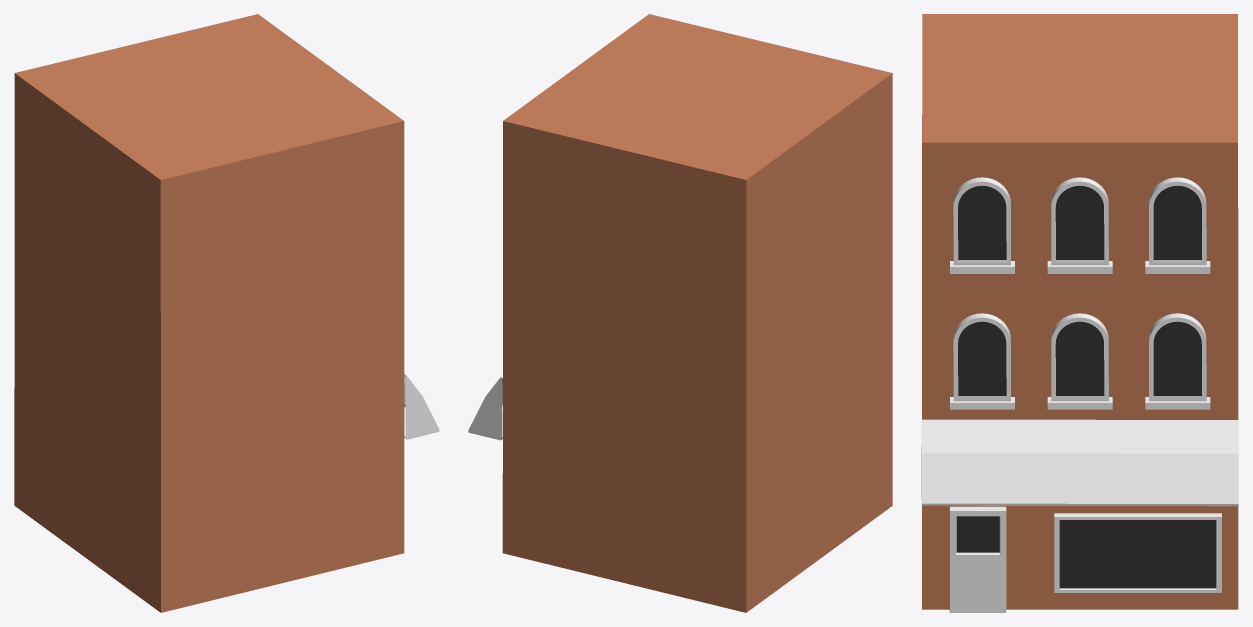
3 views of the same model, side by side, from view 1: azimuth 30°, elevation 25°; view 2: azimuth 150°, elevation 25°; view 3: azimuth 270°, elevation 25° (orthographic). The views are drawn at different scales.
Parts seen in each view (by area): view 1: BusinessBuildings.020; view 2: BusinessBuildings.020; view 3: BusinessBuildings.020.
Boxes of the visible parts, x1=… form: BusinessBuildings.020: x1=14, y1=14, x2=439, y2=612; BusinessBuildings.020: x1=468, y1=14, x2=892, y2=612; BusinessBuildings.020: x1=921, y1=14, x2=1238, y2=612.
Size of the model in its own units: 90.89 by 135 by 83.01.
